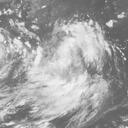cyclone: (25, 29, 92, 97)
